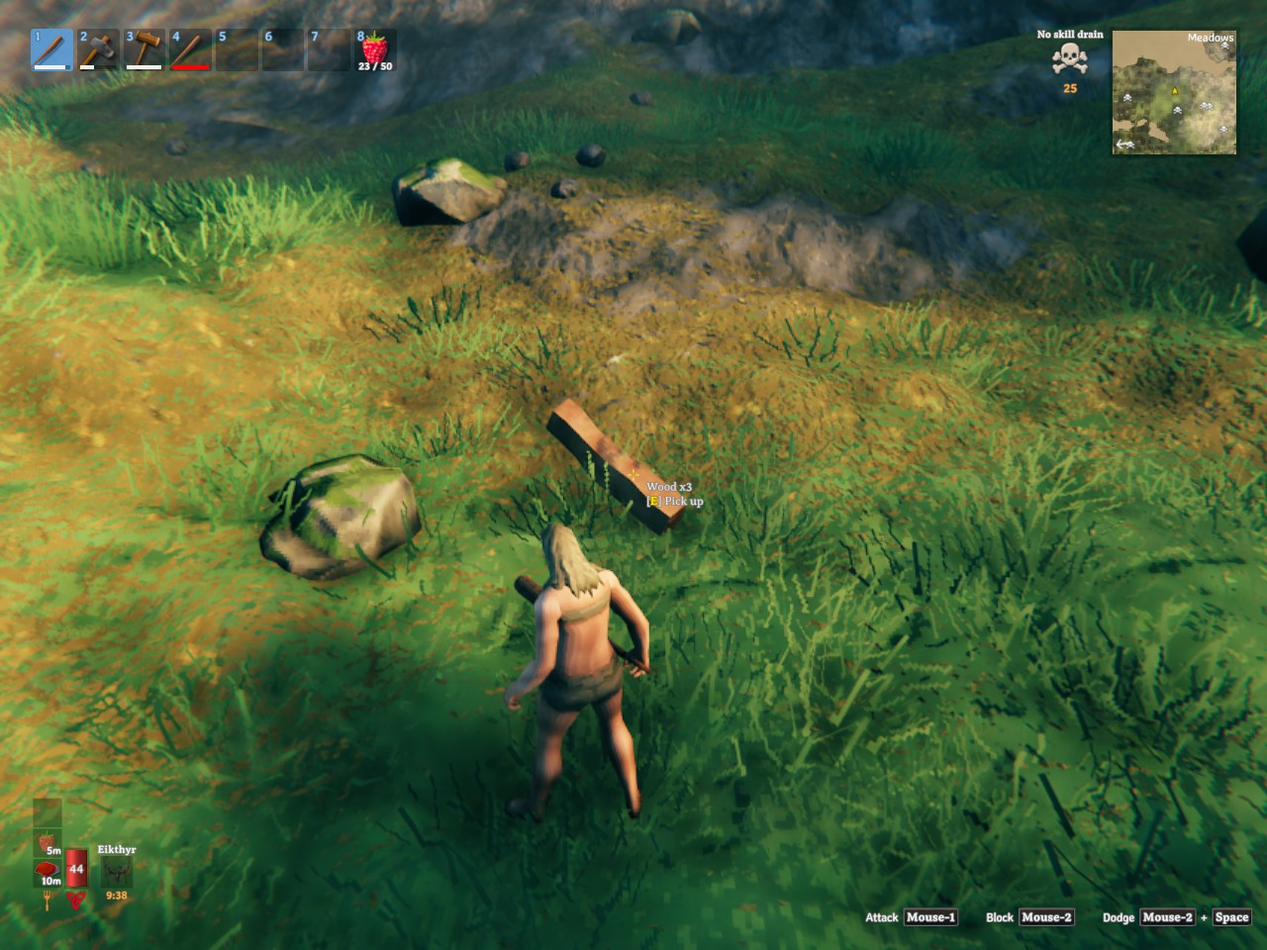Food Indicator: (36, 829, 63, 891)
Health Bar: (63, 845, 90, 891)
Hotbar: (25, 21, 398, 78)
Status Indicator: (1029, 25, 1110, 103)
Stone: (576, 143, 606, 166), (550, 177, 580, 198), (503, 151, 530, 171), (630, 91, 653, 105)
Wood: (547, 400, 686, 533)
